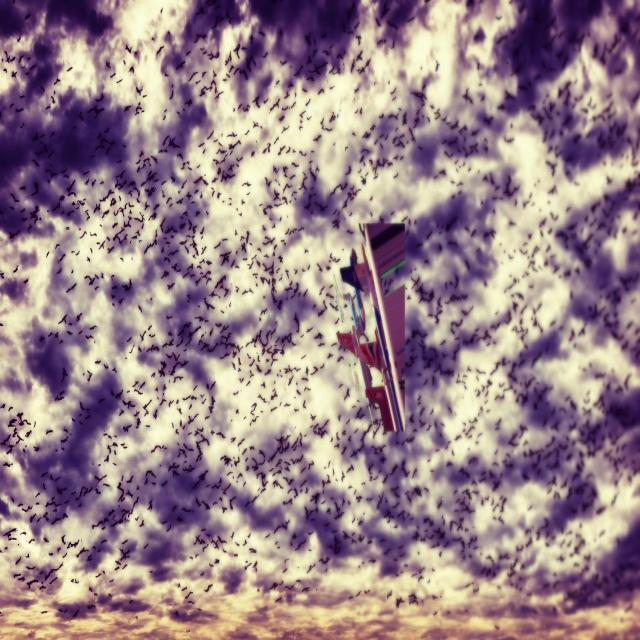airplane: (334, 220, 407, 435)
